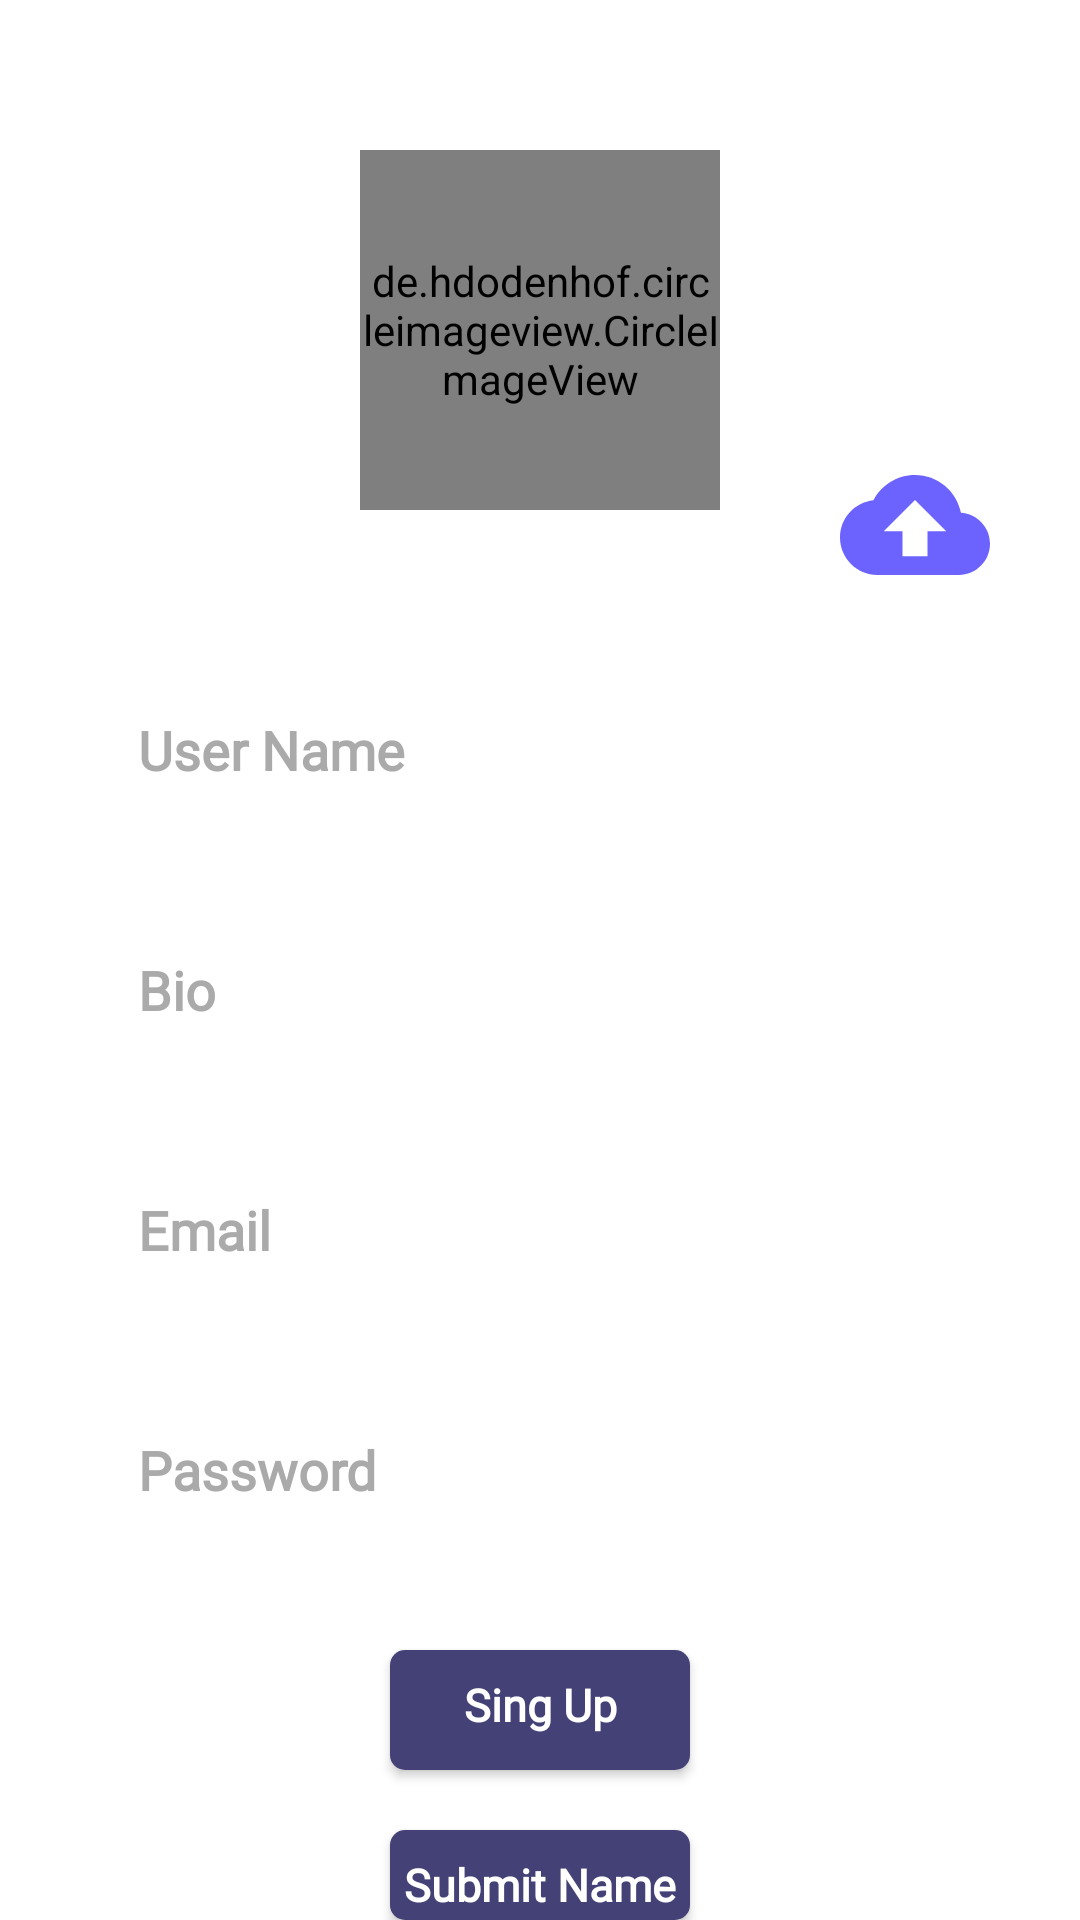

Point at icon controls on the screen. Image size 1080x1920, points as [x,y].
uploade: [915,525]
